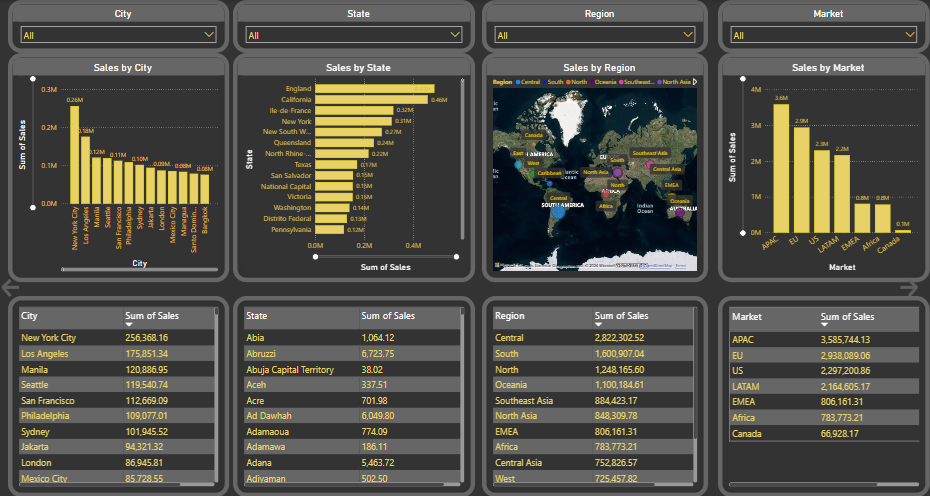

This screenshot's page, from the dashboard's own definition file:
{"tool":"powerbi","page":{"name":"Sales analysis 1","canvas":[2090,1116],"ordinal":1},"visuals":[{"type":"tableEx","title":"Sales by Country","fields":{"Values":["Orders.State","Sum(Orders.Sales)"]},"box":[523.6,665.2,543.8,451.7],"z":0},{"type":"slicer","title":"City","fields":{"Values":["Orders.City"]},"box":[18,0,496.7,119.1],"z":1000},{"type":"slicer","title":"Region","fields":{"Values":["Orders.Region"]},"box":[1083.2,0,507.9,119.1],"z":2000},{"type":"slicer","title":"State","fields":{"Values":["Orders.State"]},"box":[523.6,0,543.8,119.1],"z":3000},{"type":"slicer","title":"Market","fields":{"Values":["Orders.Market"]},"box":[1613.6,0,476.4,119.1],"z":4000},{"type":"map","title":"Sales by Region","fields":{"Series":["Orders.Region"],"Size":["Sum(Orders.Sales)"],"Category":["Orders.Region"]},"box":[1083.2,119.1,507.9,514.6],"z":5000},{"type":"columnChart","title":"Sales by City","fields":{"Y":["Sum(Orders.Sales)"],"Category":["Orders.City"]},"box":[18,119.1,496.7,514.6],"z":6000},{"type":"columnChart","title":"Sales by Market","fields":{"Y":["Sum(Orders.Sales)"],"Category":["Orders.Market"]},"box":[1613.6,119.1,476.4,514.6],"z":7000},{"type":"tableEx","title":"Sales by Country","fields":{"Values":["Orders.Region","Sum(Orders.Sales)"]},"box":[1083.2,665.2,507.9,451.7],"z":8000},{"type":"tableEx","title":"Sales by Country","fields":{"Values":["Orders.City","Sum(Orders.Sales)"]},"box":[18,665.2,496.7,451.7],"z":9000},{"type":"tableEx","title":"Sales by Country","fields":{"Values":["Orders.Market","Sum(Orders.Sales)"]},"box":[1613.6,665.2,476.4,451.7],"z":10000},{"type":"actionButton","box":[0,593.3,89.9,107.9],"z":11000},{"type":"actionButton","box":[2006.8,593.3,83.2,107.9],"z":12000},{"type":"clusteredBarChart","title":"Sales by State","fields":{"Y":["Sum(Orders.Sales)"],"Category":["Orders.State"]},"box":[523.6,119.1,543.8,514.6],"z":13000}]}

Visuals, with their boxes in screenshot pixels (x1, y1, x2, y2), scaled from the page's 2090x1116 canvas onto the 930x496 screenshot:
"Sales by Country" tableEx: (left=233, top=296, right=475, bottom=495)
"City" slicer: (left=8, top=0, right=229, bottom=53)
"Region" slicer: (left=482, top=0, right=708, bottom=53)
"State" slicer: (left=233, top=0, right=475, bottom=53)
"Market" slicer: (left=718, top=0, right=929, bottom=53)
"Sales by Region" map: (left=482, top=53, right=708, bottom=282)
"Sales by City" columnChart: (left=8, top=53, right=229, bottom=282)
"Sales by Market" columnChart: (left=718, top=53, right=929, bottom=282)
"Sales by Country" tableEx: (left=482, top=296, right=708, bottom=495)
"Sales by Country" tableEx: (left=8, top=296, right=229, bottom=495)
"Sales by Country" tableEx: (left=718, top=296, right=929, bottom=495)
actionButton: (left=0, top=264, right=40, bottom=312)
actionButton: (left=893, top=264, right=929, bottom=312)
"Sales by State" clusteredBarChart: (left=233, top=53, right=475, bottom=282)
